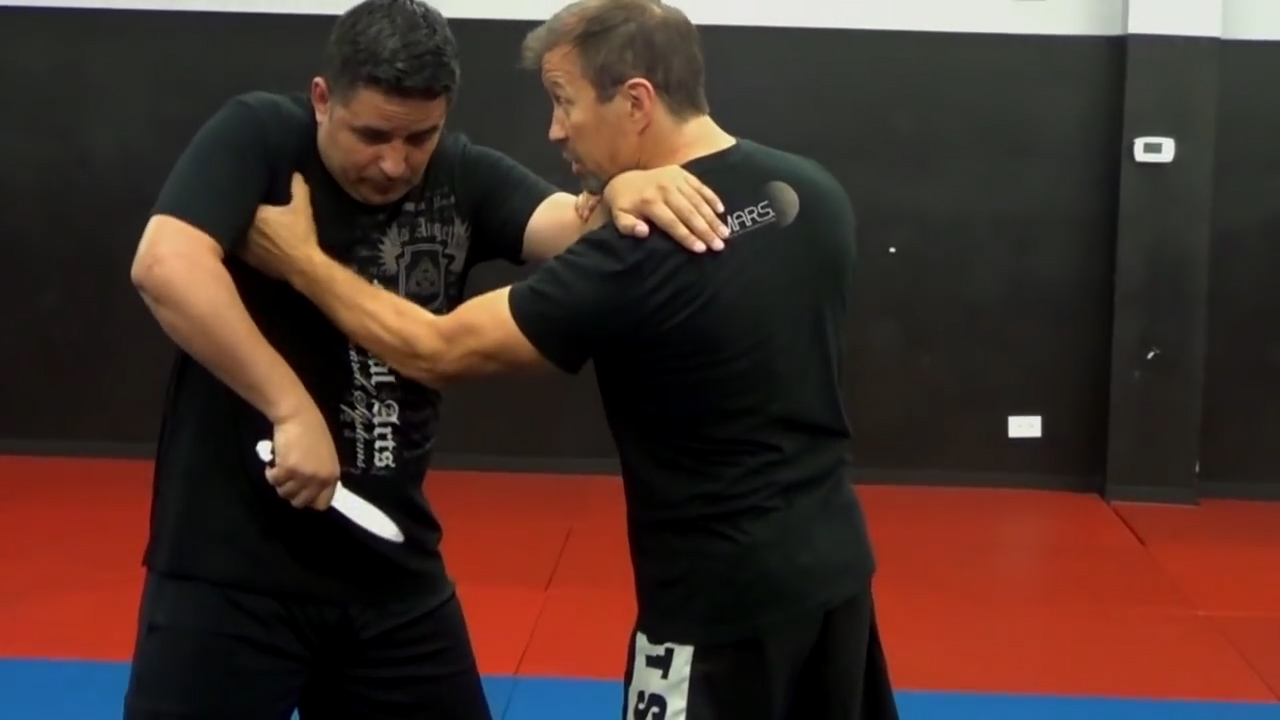knife: (252, 432, 412, 552)
